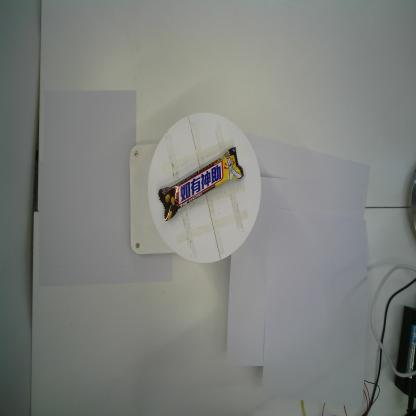Chocolate: (158, 147, 244, 222)
